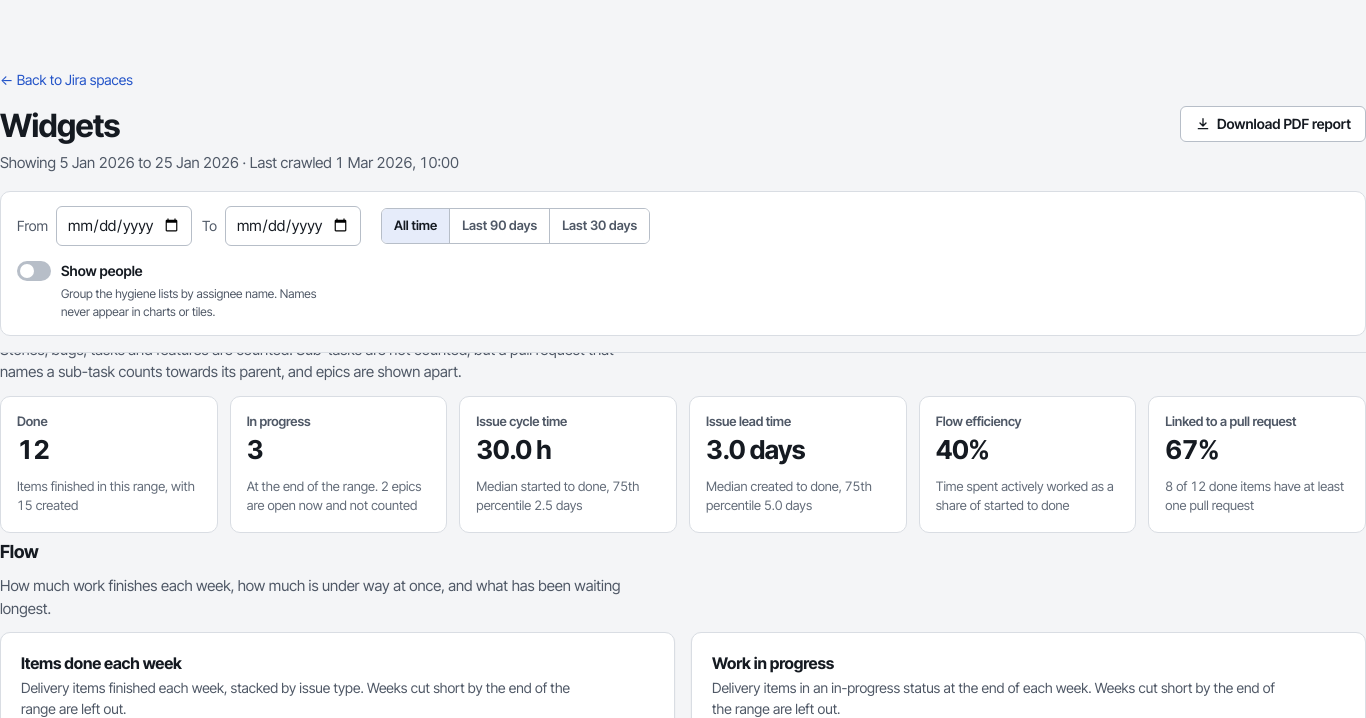
it: SpacePage › asks for names and groups the hygiene lists by assignee when Show people is on
Expected: the heading "Widgets" is shown, [0,106,120,145]
What coordinates should you click on to do the following:
click the switch labelled "Show people"
I would click on:
 (34, 270)
Its box is [17,258,337,283].
(page scrolled)
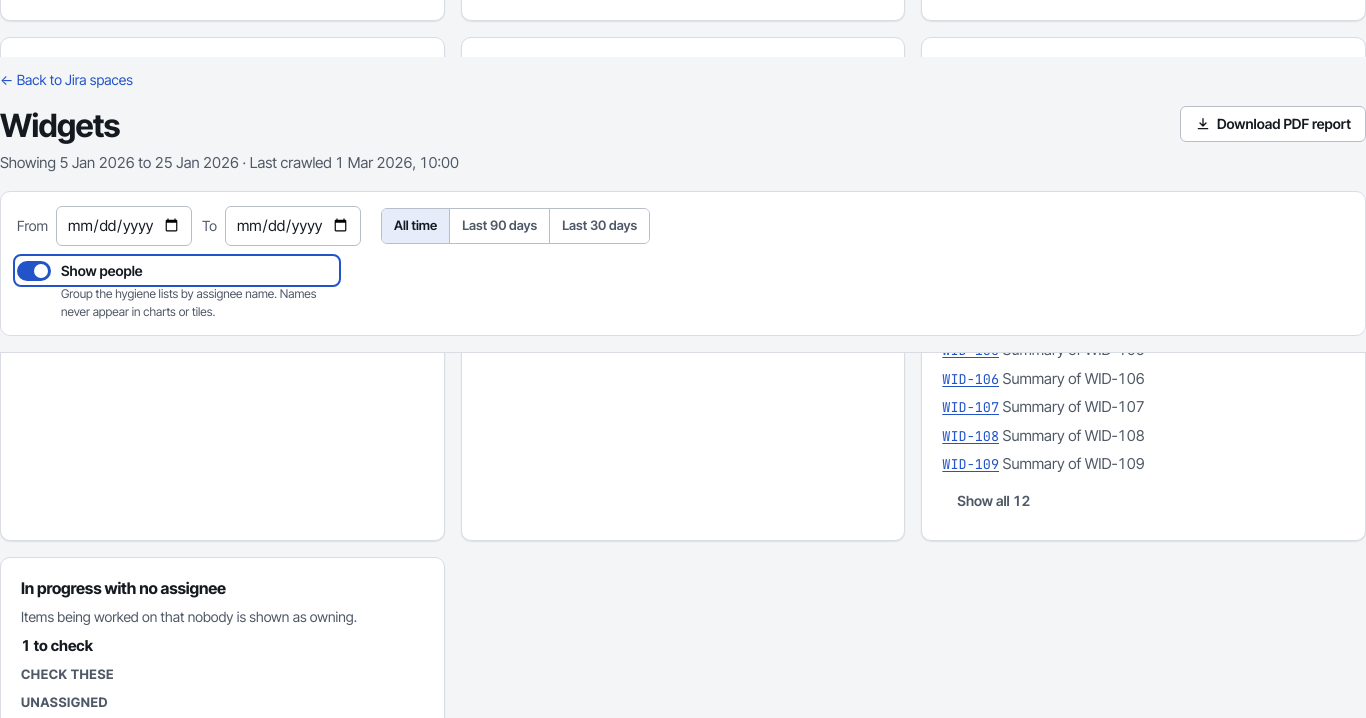
Now the heading "Unassigned" is shown, box [21,694,108,710]
